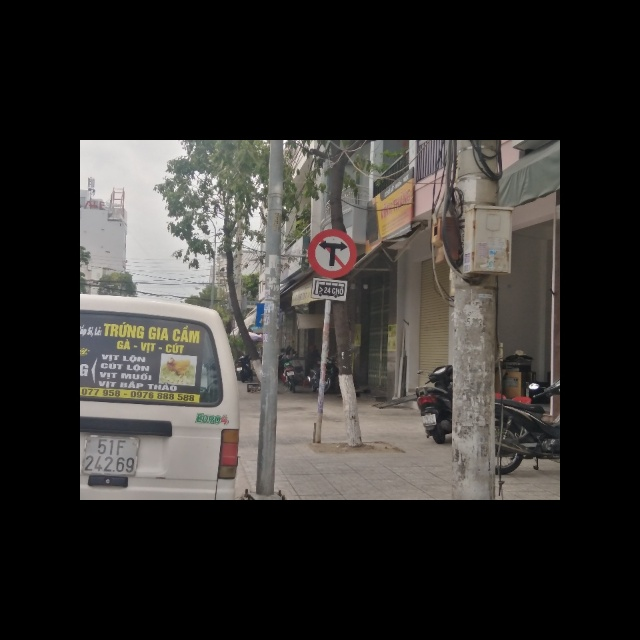Cấm rẽ trái và rẽ phải: (309, 227, 358, 279)
